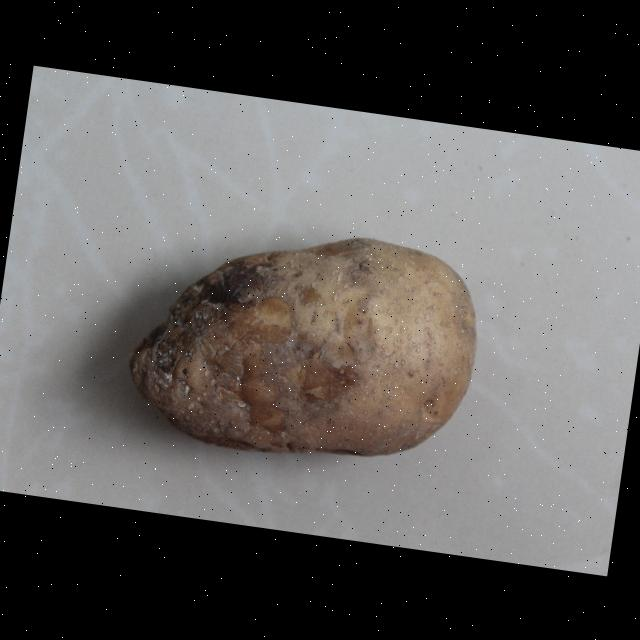Diseased-fungal potato: (114, 202, 494, 488)
